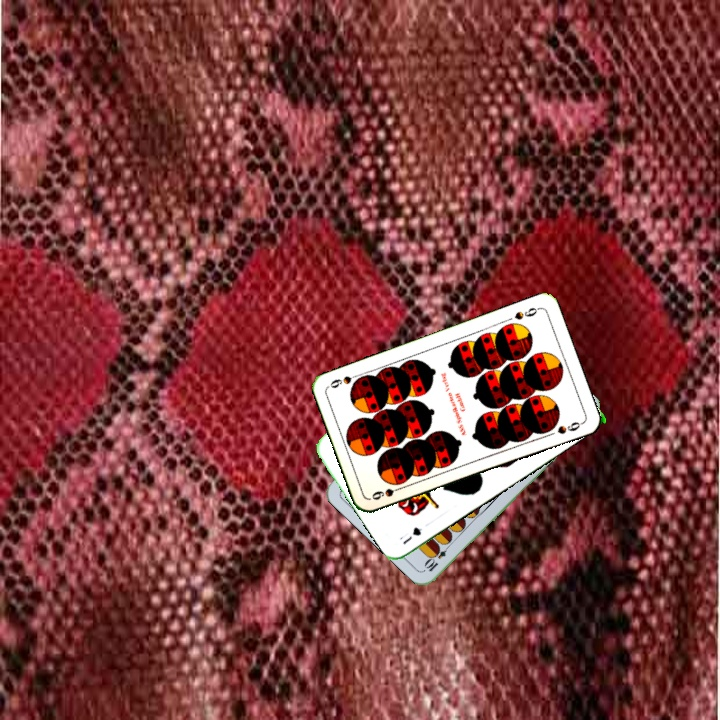E10: (421, 539, 453, 574)
GU: (399, 523, 425, 547)
S9: (367, 482, 407, 503), (511, 303, 542, 322)
